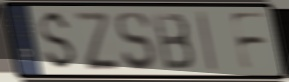B: (150, 10, 197, 72)
F: (228, 11, 270, 74)
I: (195, 9, 219, 74)
S: (114, 10, 158, 73), (39, 9, 79, 74)
Z: (71, 9, 123, 73)
